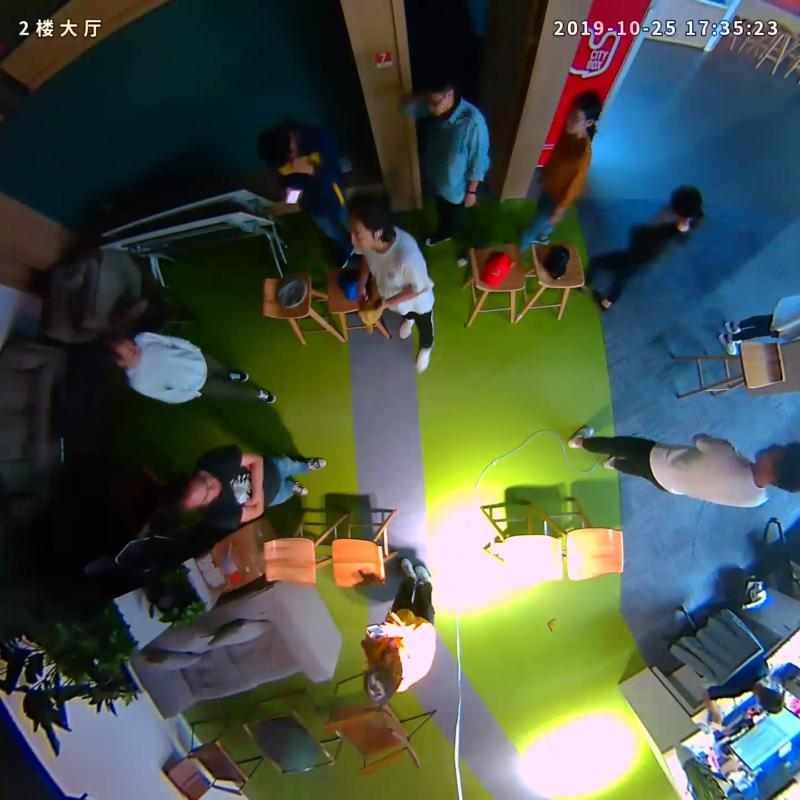head: (346, 189, 393, 249), (752, 439, 800, 493), (167, 470, 219, 511), (363, 649, 401, 704), (256, 126, 299, 170), (93, 331, 142, 369), (564, 90, 603, 136), (417, 70, 456, 116), (668, 185, 703, 225)
